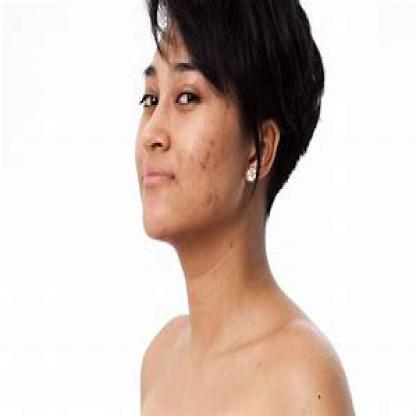darkspot: (189, 124, 230, 204)
